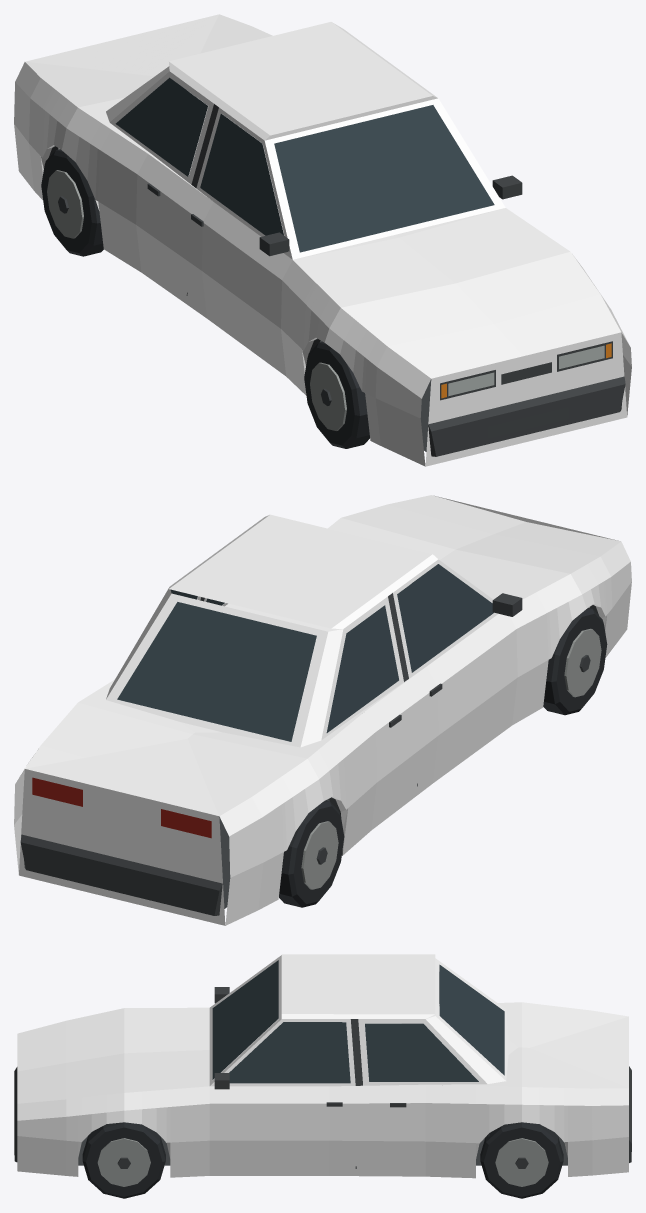
File: garrison_thunderhead.glb
The picture shows the model from 3 angles, top to bottom: view 1: azimuth 30°, elevation 25°; view 2: azimuth 150°, elevation 25°; view 3: azimuth 270°, elevation 25°; orthographic projection. The views are drawn at different scales.
Visible parts, largest first — view 1: garrison_thunderhead; view 2: garrison_thunderhead; view 3: garrison_thunderhead.
Boxes of the visible parts, left/top/right/bottom form: garrison_thunderhead: left=14, top=14, right=631, bottom=466; garrison_thunderhead: left=14, top=495, right=631, bottom=925; garrison_thunderhead: left=14, top=954, right=631, bottom=1198.
Bounding box in the file's own units: 1.84 × 1.5 × 4.97.
Materials: 8 (1 with a texture image).
